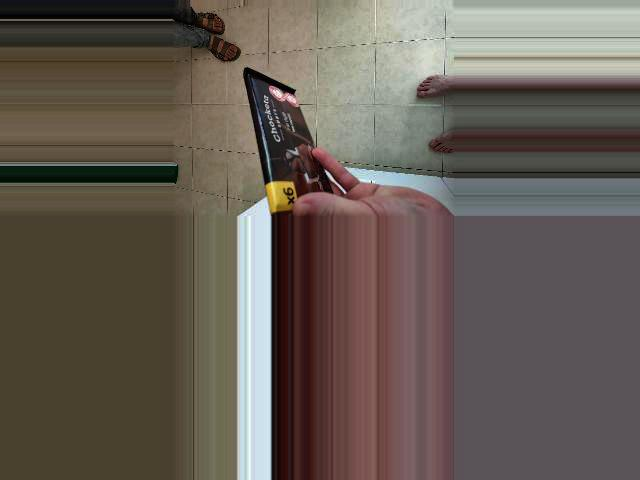chocolate: (232, 64, 356, 217)
